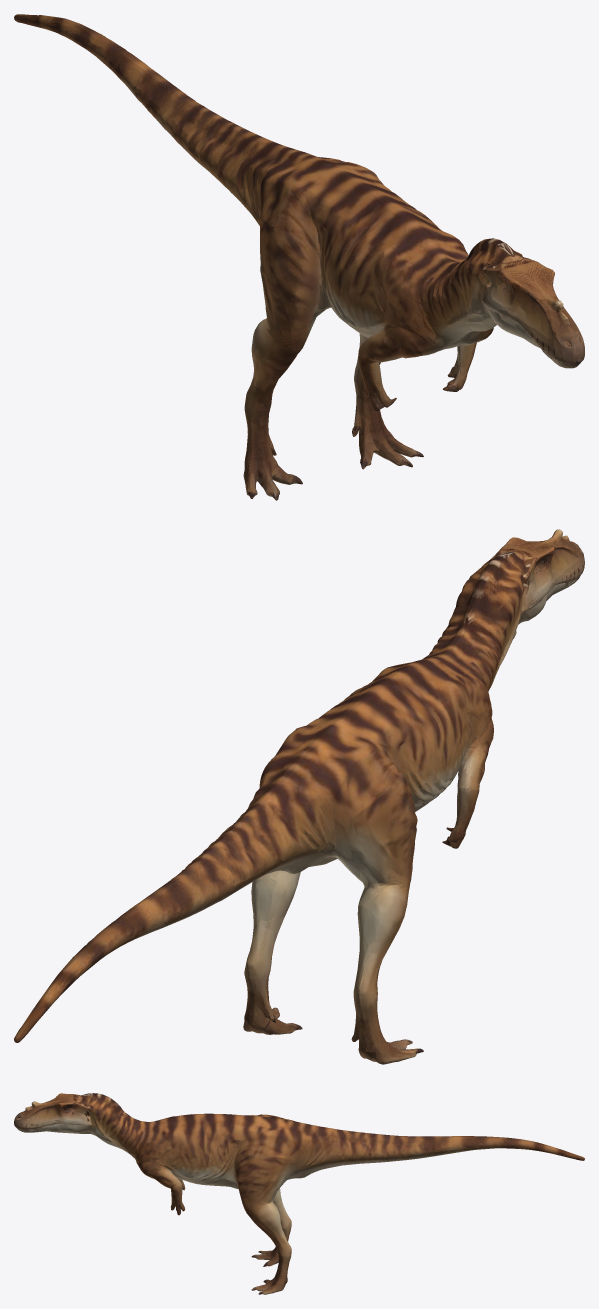
Rendered from altai.glb.
3 views of the same model, one above another, from view 1: azimuth 30°, elevation 25°; view 2: azimuth 150°, elevation 25°; view 3: azimuth 270°, elevation 25° (orthographic). The views are drawn at different scales.
Size of the model in its own units: 0.3369 by 0.667 by 1.9.
1 material, 1 textured.
